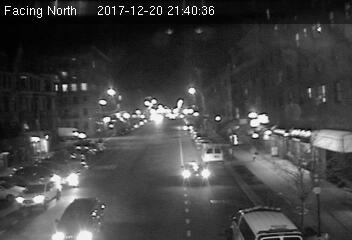car: (54, 196, 105, 240), (16, 177, 62, 210), (52, 161, 90, 185), (180, 161, 209, 183)
police: (229, 205, 300, 240)
truck: (203, 143, 222, 162)
